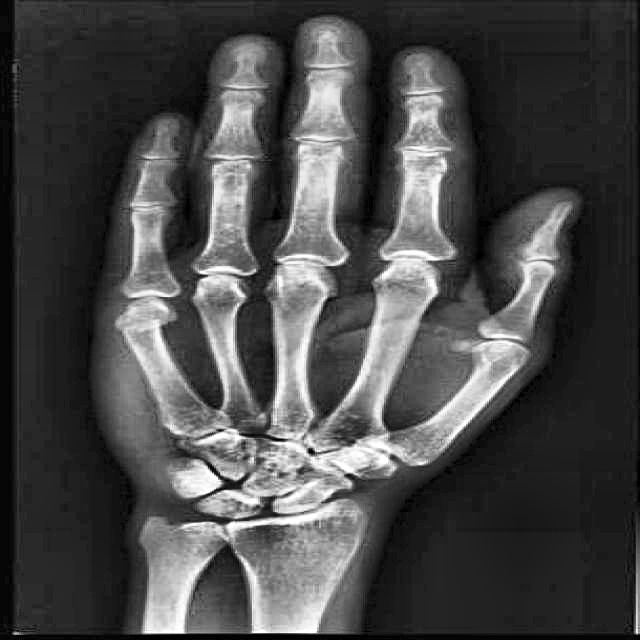Comminuted: (109, 305, 174, 350)
